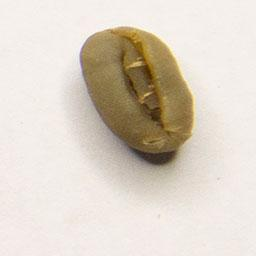peaberry: (76, 22, 197, 158)
